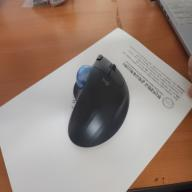mouse: (68, 54, 130, 147)
